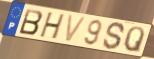9: (83, 19, 104, 47)
B: (18, 8, 44, 36)
H: (38, 12, 66, 42)
Q: (122, 26, 146, 55)
S: (101, 21, 126, 51)
V: (64, 13, 88, 44)
